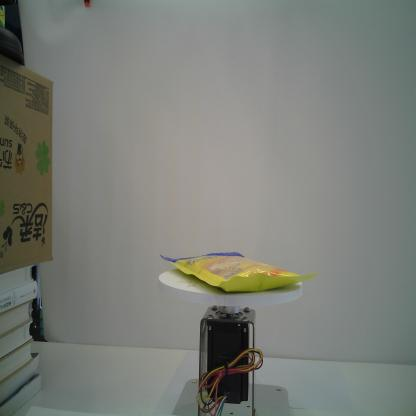Dried Fruit: (159, 251, 317, 293)
